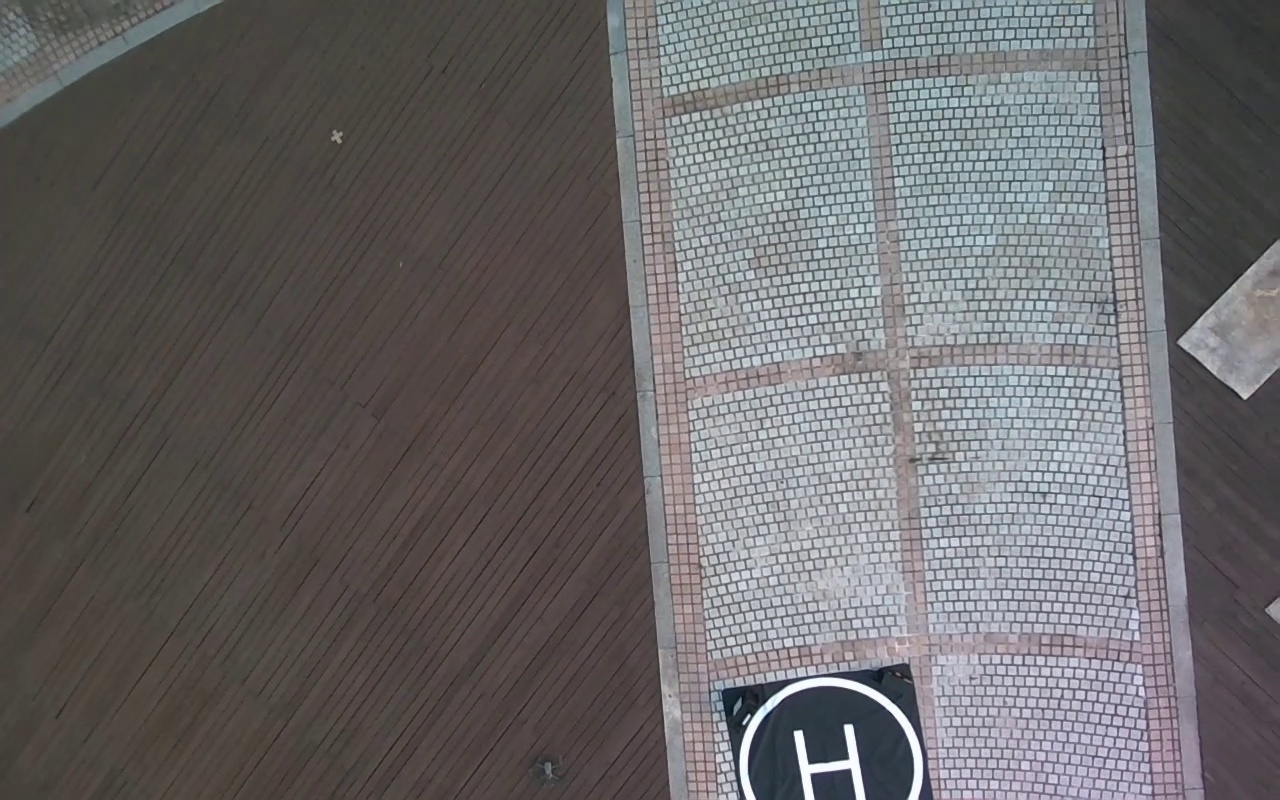H: (791, 726, 869, 800)
